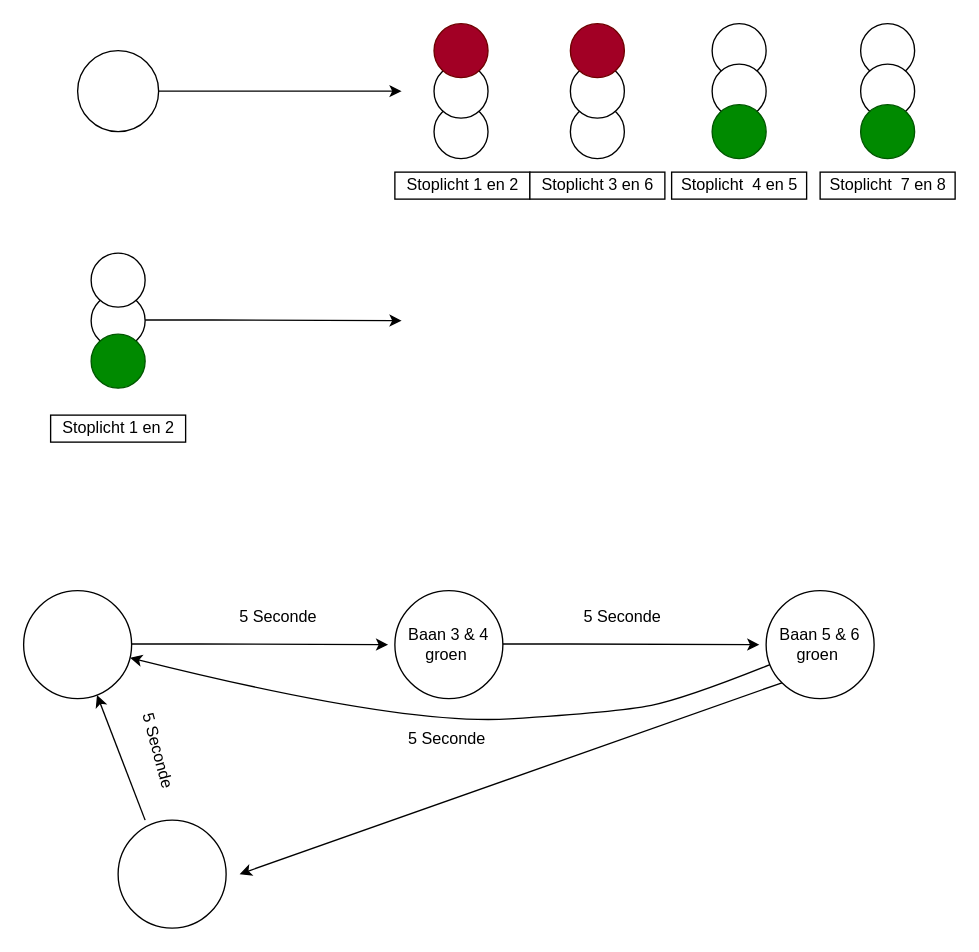
Some shapes in this 979 by 952 pixel diagram are drawn without their labels. The shapes that lost their labels are listed below. From the top down, each one's centre as x and y in pixels, then its label:
[117,90]: Knop ingedrukt
[77,644]: Baan 1 & 2 groen
[171,873]: Zebrapad
